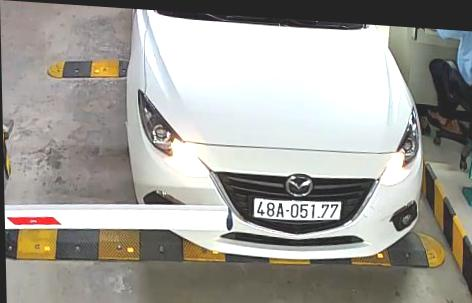License_Plate: (249, 189, 343, 228)
